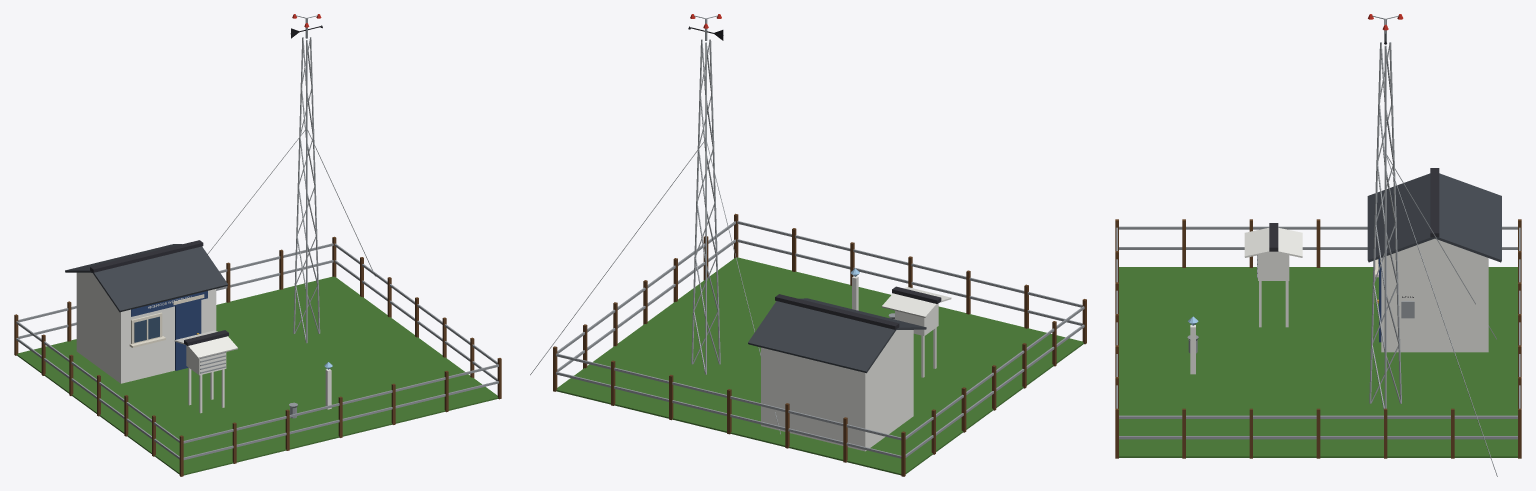
File: village.weather-station.glb
The picture shows the model from 3 angles, left to right: view 1: azimuth 30°, elevation 25°; view 2: azimuth 150°, elevation 25°; view 3: azimuth 270°, elevation 25°; orthographic projection. The views are drawn at different scales.
Visible parts, largest first — view 1: plot, hut, hut-roof-f, hut-door, fr10.011.0, fr10.010.5, hut-roof-ridge, screen-roof-f, mast-leg2, mast-leg0, screen-box, mast-leg1 (+8 smaller); view 2: plot, hut, hut-roof-b, fr10.011.0, fr10.0-11.0, fr10.0-10.5, fr10.010.5, hut-roof-ridge, screen-roof-b, mast-leg0, mast-leg1, fr9.0-11.0 (+5 smaller); view 3: plot, hut, hut-roof-b, hut-roof-f, hut-roof-gable1, fr9.010.5, fr9.011.0, mast-leg0, fr9.0-11.0, mast-leg1, mast-leg2, screen-box (+5 smaller).
Part boxes in pixels (x1=…): plot: x1=17, y1=276, x2=498, y2=475; hut: x1=76, y1=273, x2=216, y2=383; hut-roof-f: x1=92, y1=246, x2=227, y2=312; hut-door: x1=175, y1=300, x2=201, y2=370; fr10.011.0: x1=183, y1=364, x2=498, y2=443; fr10.010.5: x1=183, y1=381, x2=498, y2=459; hut-roof-ridge: x1=90, y1=240, x2=203, y2=272; screen-roof-f: x1=187, y1=336, x2=237, y2=358; mast-leg2: x1=293, y1=37, x2=303, y2=333; mast-leg0: x1=310, y1=37, x2=320, y2=333; screen-box: x1=186, y1=345, x2=226, y2=375; mast-leg1: x1=306, y1=40, x2=307, y2=343; plot: x1=556, y1=257, x2=1083, y2=475; hut: x1=761, y1=330, x2=913, y2=451; hut-roof-b: x1=748, y1=301, x2=896, y2=373; fr10.011.0: x1=737, y1=221, x2=1082, y2=307; fr10.0-11.0: x1=556, y1=353, x2=901, y2=440; fr10.0-10.5: x1=556, y1=372, x2=901, y2=458; fr10.010.5: x1=737, y1=239, x2=1082, y2=325; hut-roof-ridge: x1=775, y1=294, x2=899, y2=329; screen-roof-b: x1=882, y1=293, x2=937, y2=317; mast-leg0: x1=691, y1=39, x2=702, y2=364; mast-leg1: x1=709, y1=39, x2=720, y2=364; fr9.0-11.0: x1=905, y1=306, x2=1084, y2=439; plot: x1=1119, y1=267, x2=1517, y2=457; hut: x1=1381, y1=256, x2=1488, y2=352; hut-roof-b: x1=1434, y1=173, x2=1501, y2=262; hut-roof-f: x1=1367, y1=173, x2=1435, y2=262; hut-roof-gable1: x1=1381, y1=238, x2=1488, y2=268; fr9.010.5: x1=1119, y1=436, x2=1517, y2=439; fr9.011.0: x1=1119, y1=415, x2=1517, y2=418; mast-leg0: x1=1384, y1=46, x2=1386, y2=408; fr9.0-11.0: x1=1119, y1=226, x2=1517, y2=229; mast-leg1: x1=1369, y1=42, x2=1381, y2=403; mast-leg2: x1=1389, y1=42, x2=1401, y2=403; screen-box: x1=1258, y1=252, x2=1289, y2=280.
Bounding box in the file's own units: 11.05 × 9.63 × 9.08.
